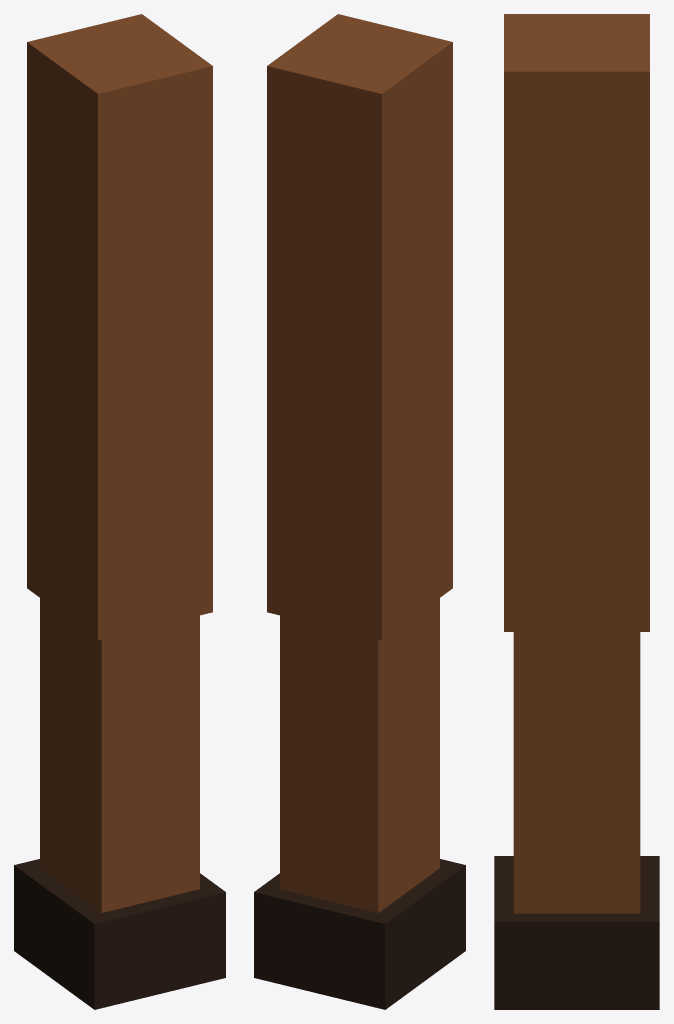
Rendered from carreta_leg_castano.obj.
3 views of the same model, side by side, from view 1: azimuth 30°, elevation 25°; view 2: azimuth 150°, elevation 25°; view 3: azimuth 270°, elevation 25° (orthographic). The views are drawn at different scales.
Visible parts, largest first — view 1: carreta_leg_castano; view 2: carreta_leg_castano; view 3: carreta_leg_castano.
Part boxes in pixels (left/top/right/bottom): carreta_leg_castano: left=14, top=14, right=225, bottom=1009; carreta_leg_castano: left=254, top=14, right=465, bottom=1009; carreta_leg_castano: left=494, top=14, right=659, bottom=1009.
Bounding box in the file's own units: 0.16 × 1.06 × 0.17.
